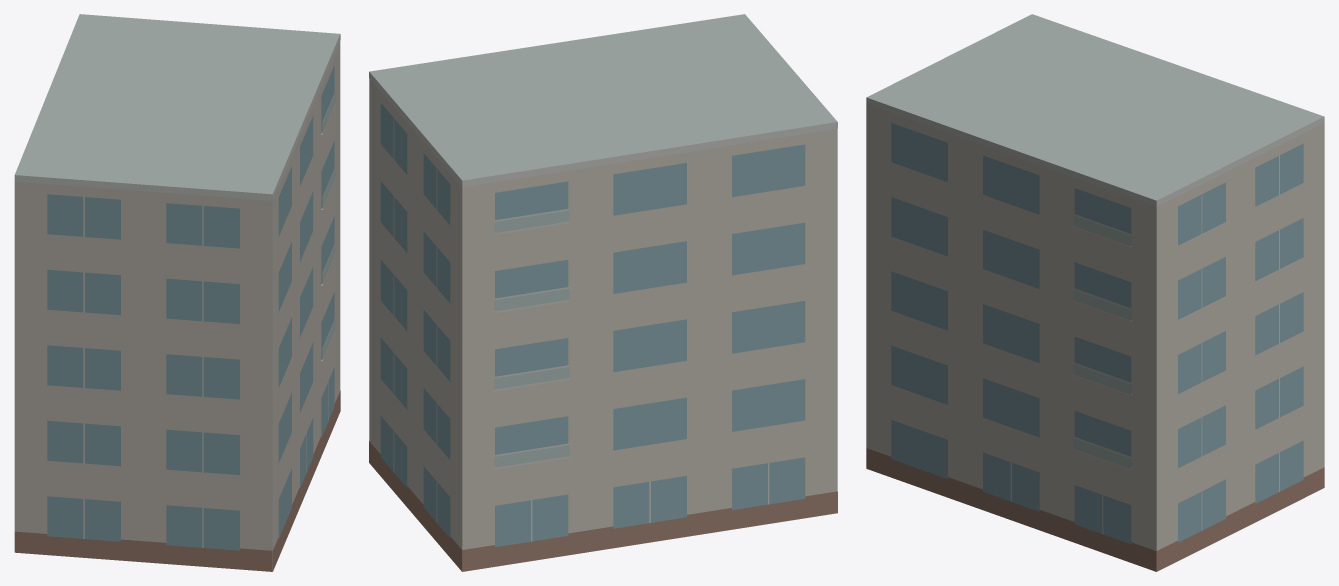
File: survey-upis-33021111.glb
The picture shows the model from 3 angles, left to right: view 1: azimuth 30°, elevation 25°; view 2: azimuth 150°, elevation 25°; view 3: azimuth 270°, elevation 25°; orthographic projection. The views are drawn at different scales.
Visible parts, largest first — view 1: survey-upis-33021111.tmp; view 2: survey-upis-33021111.tmp; view 3: survey-upis-33021111.tmp.
Boxes of the visible parts, box(x1,y1,x2,y2) form: survey-upis-33021111.tmp: box(14, 14, 340, 571); survey-upis-33021111.tmp: box(369, 14, 837, 571); survey-upis-33021111.tmp: box(866, 14, 1324, 571).
Size of the model in its own units: 15.32 by 14.2 by 15.89.
